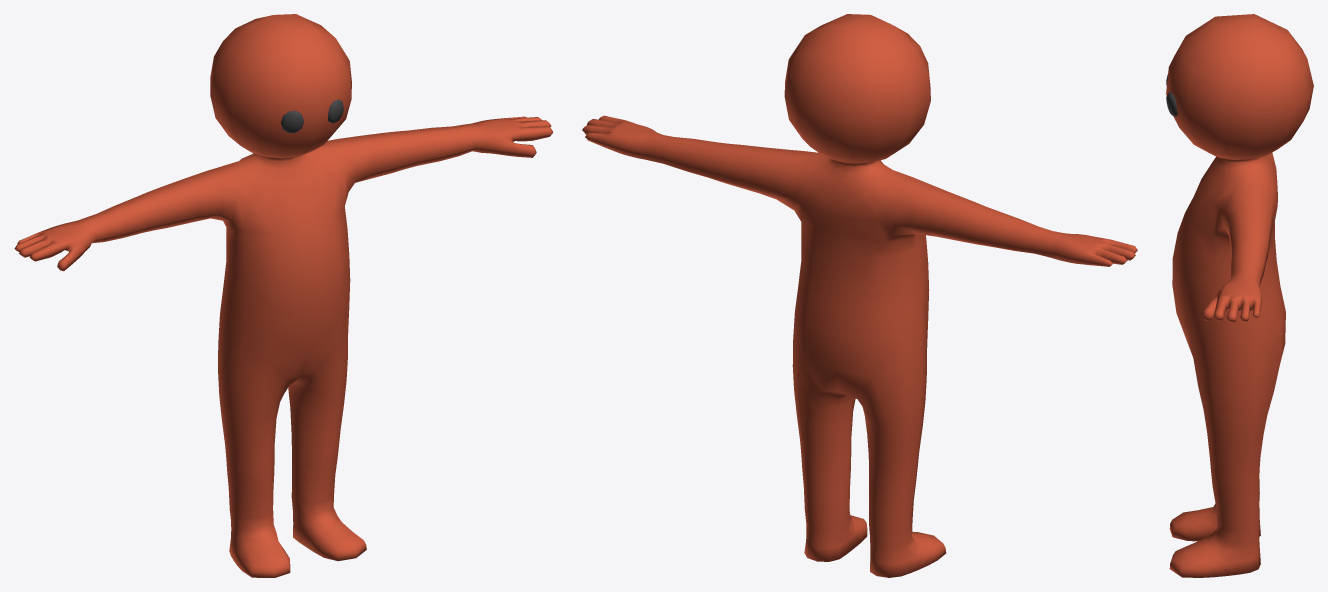
File: Body_Orange_001.glb
The picture shows the model from 3 angles, left to right: view 1: azimuth 30°, elevation 25°; view 2: azimuth 150°, elevation 25°; view 3: azimuth 270°, elevation 25°; orthographic projection. The views are drawn at different scales.
Parts seen in each view (by area): view 1: Body_Orange_001; view 2: Body_Orange_001; view 3: Body_Orange_001.
Part boxes in pixels (box(x1,y1,x2,y2)): Body_Orange_001: box(14, 14, 553, 577); Body_Orange_001: box(582, 14, 1137, 577); Body_Orange_001: box(1166, 14, 1313, 577).
Size of the model in its own units: 1.82 by 1.71 by 0.4335.
1 material, 1 textured.
